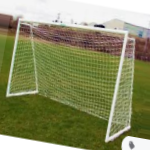goals: (6, 18, 136, 139)
